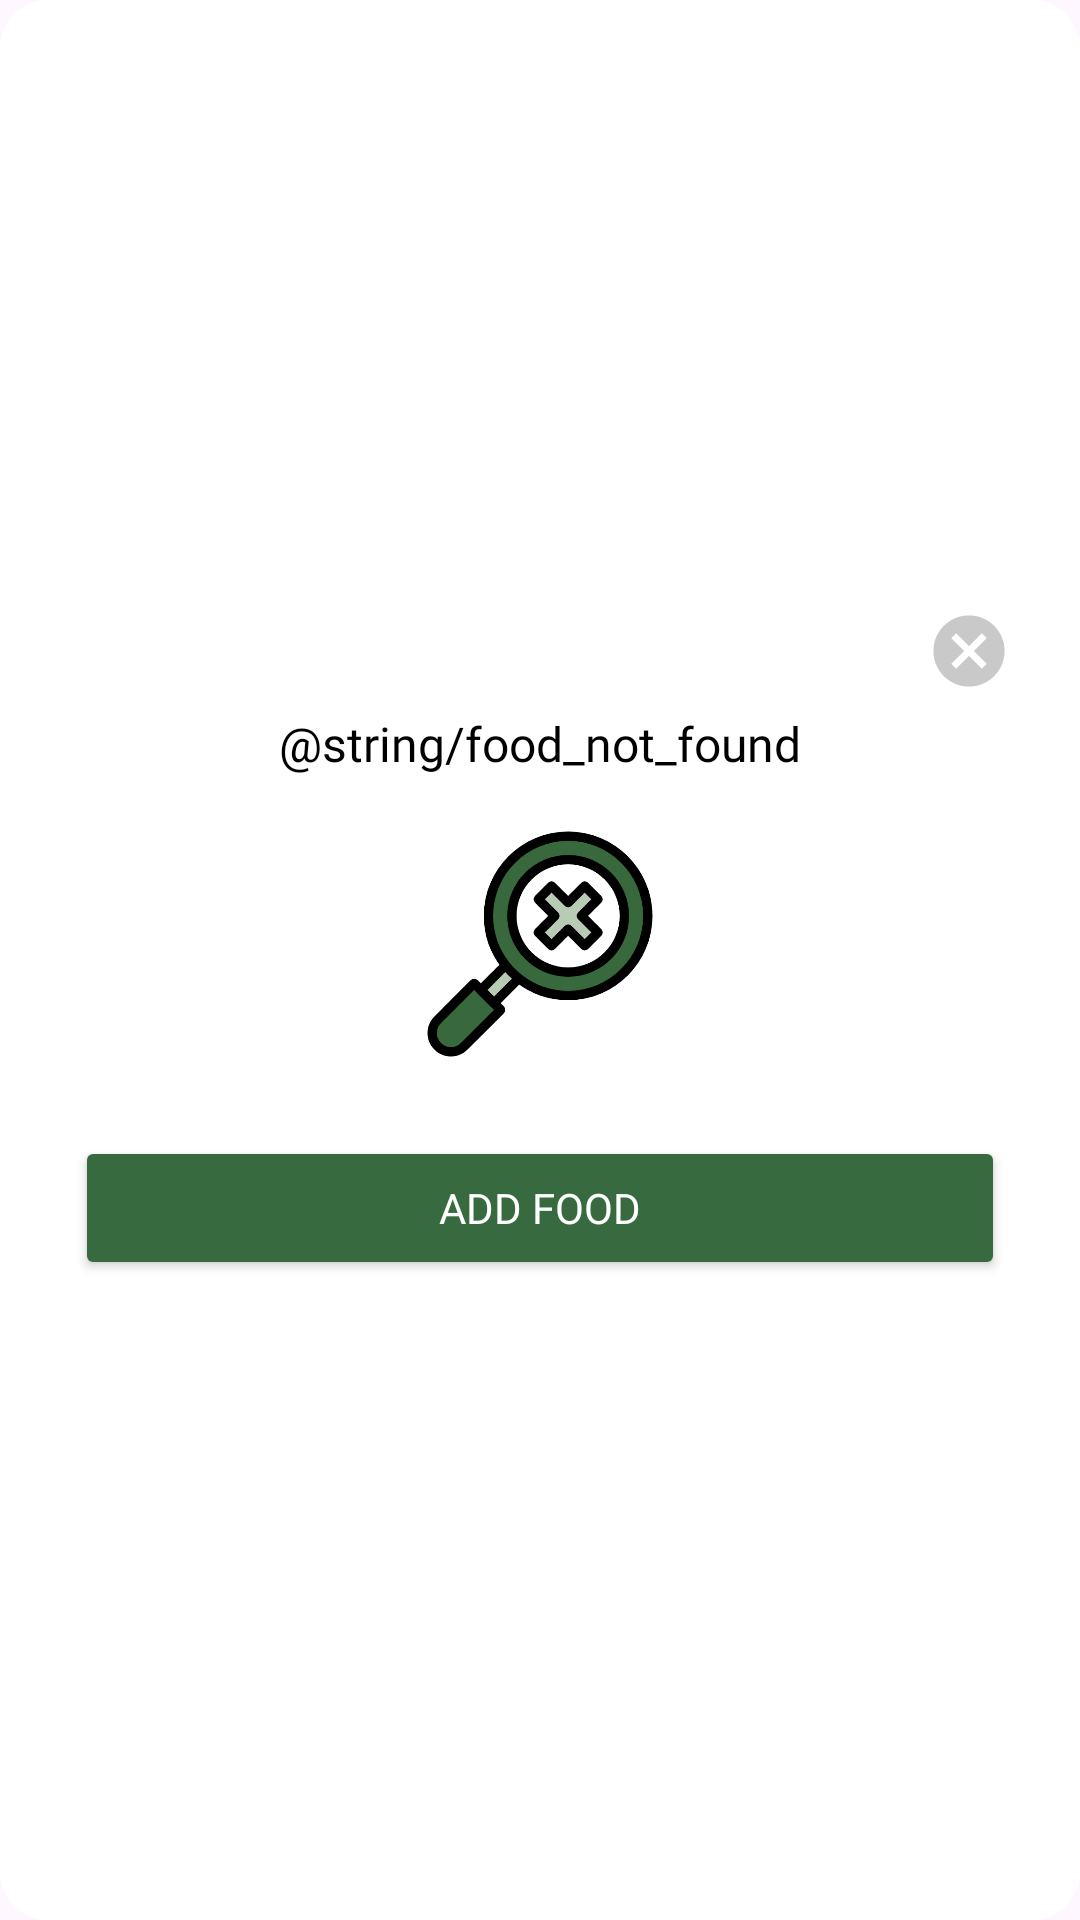

Icon bounding boxes for this 1080 x 1920 phone screenshot, format region(x1, y1, x2, y2):
close: region(933, 615, 1005, 687)
